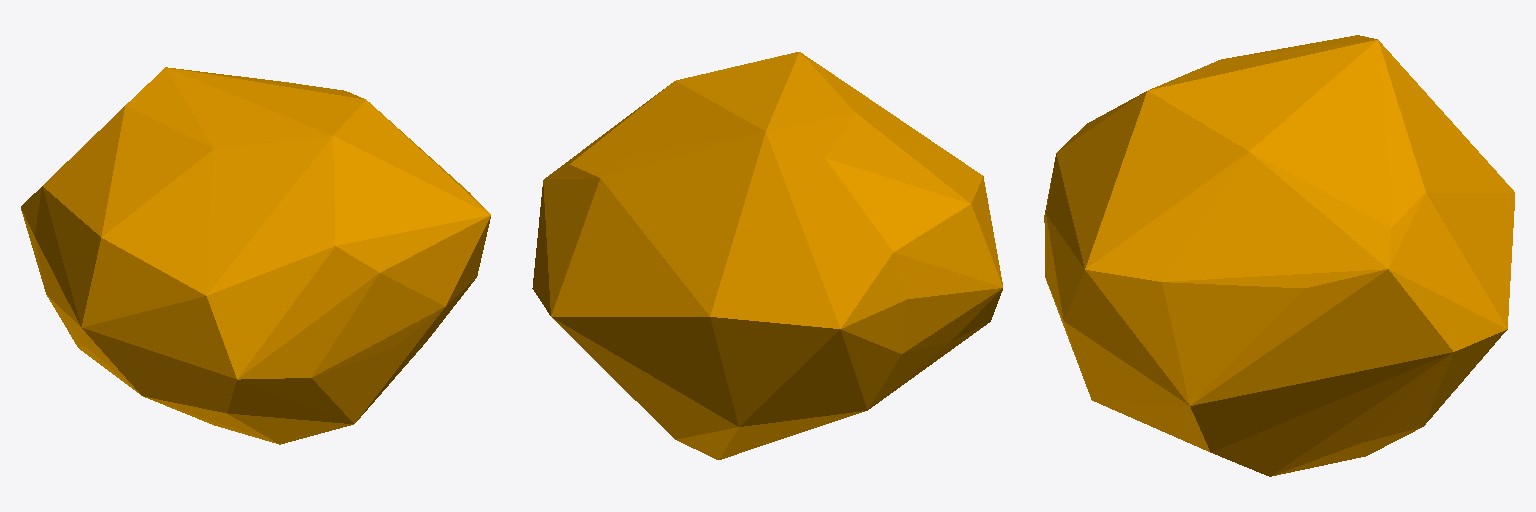
robot.urdf — 055_012_5539:
<?xml version="1.0"?>
<robot name="055_012_5539">
  <link name="link">
    <contact>
      <lateral_friction value="0.6"/>
    </contact>
    <inertial>
      <mass value = "0.4513854765765162"/>
      <inertia ixx="0.00021222575704714413" ixy="-1.605307567145596e-20" ixz="-1.1772255492401037e-20" iyy="0.00022414313986037724" iyz="1.0113437673017253e-19" izz="0.00026378330507152844" />
    </inertial>
    <visual name="visual">
      <geometry>
        <mesh filename="055_012_5539.obj"/>
      </geometry>
    </visual>
    <collision name="collision">
      <geometry>
        <mesh filename="055_012_5539.obj"/>
      </geometry>
    </collision>
  </link>
</robot>

--- Render facts (derived) ---
Views: 3 orthographic renders of the robot side by side, from view 1: azimuth 30°, elevation 25°; view 2: azimuth 150°, elevation 25°; view 3: azimuth 270°, elevation 25°.
Model 055_012_5539 with 1 links and 0 joints (none), rooted at link, posed every joint at zero.
Links seen in each view (by area): view 1: link; view 2: link; view 3: link.
Boxes of the visible links, x1,y1,x2,y2 form: link: (21, 67, 490, 444); link: (532, 52, 1002, 459); link: (1044, 35, 1514, 476).
Bounding box of the posed robot: 0.0799 × 0.073 × 0.0664 m (x, y, z).
Meshes: 1 distinct files referenced, 1 mesh visuals loaded (1 OBJ).
